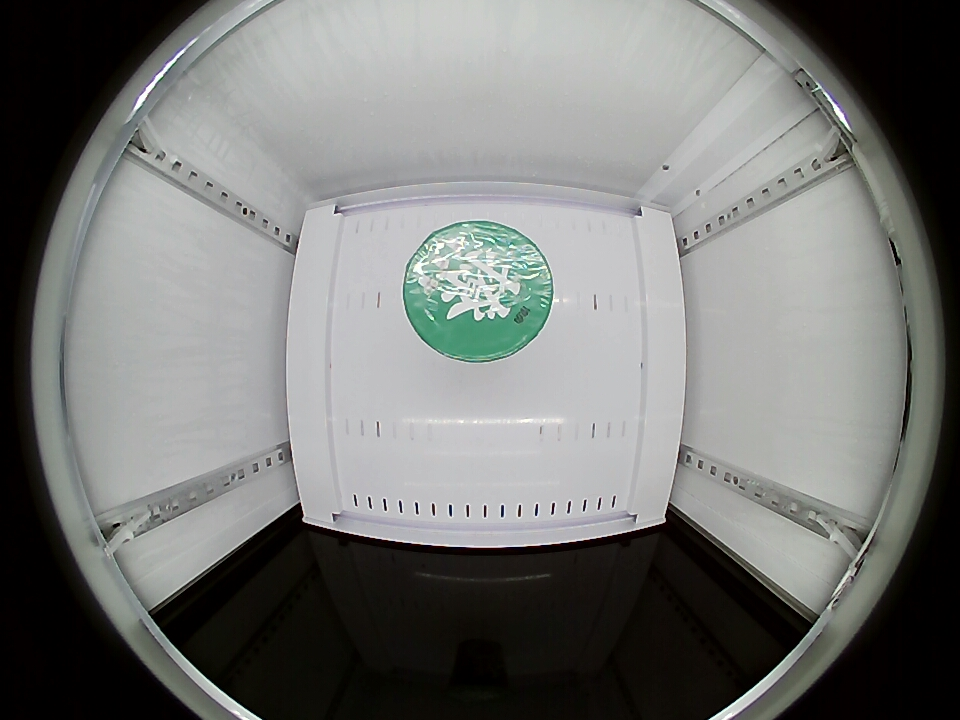liaomian: (403, 221, 553, 362)
